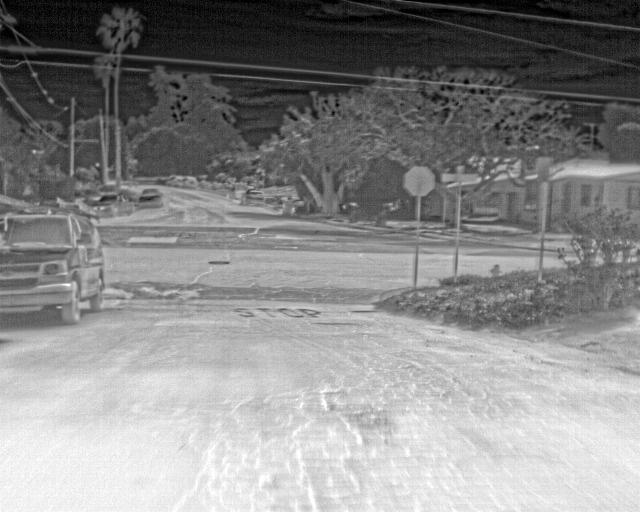car: (0, 205, 106, 324), (92, 193, 135, 216), (140, 186, 166, 210), (244, 188, 263, 209), (227, 181, 243, 200)
